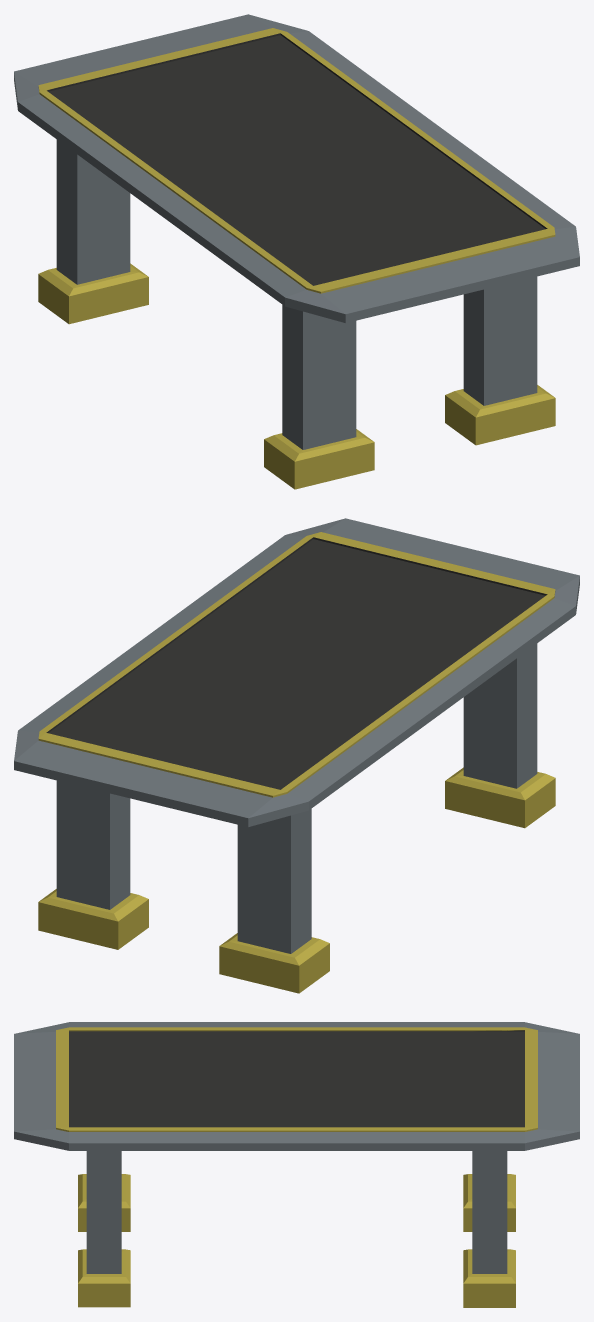
Rendered from MesaLowPoly.fbx.
3 views of the same model, one above another, from view 1: azimuth 30°, elevation 25°; view 2: azimuth 150°, elevation 25°; view 3: azimuth 270°, elevation 25° (orthographic). The views are drawn at different scales.
Visible parts, largest first — view 1: Cube; view 2: Cube; view 3: Cube.
Boxes of the visible parts, bbox=[...] form: Cube: bbox=[14, 14, 579, 489]; Cube: bbox=[14, 518, 579, 993]; Cube: bbox=[14, 1022, 579, 1307].
Bounding box in the file's own units: 546 × 367 × 1077.
